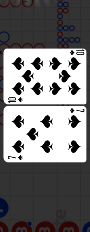10C: (6, 96, 23, 104)
7C: (6, 154, 24, 161)
